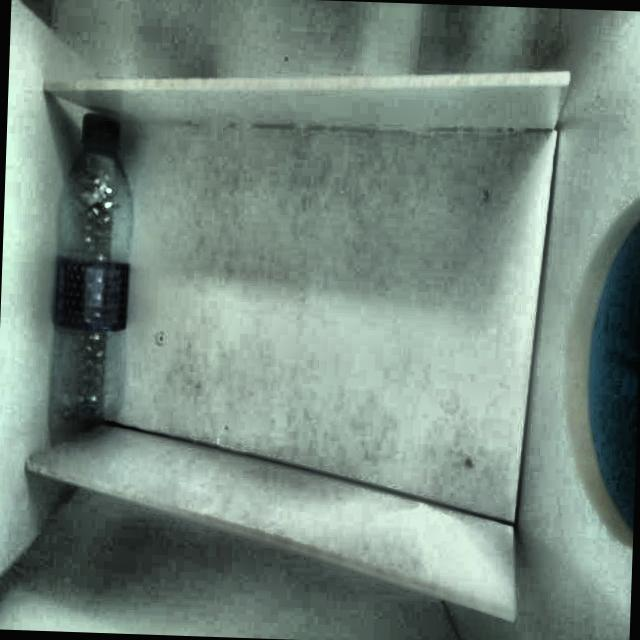plastic bottle: (50, 113, 133, 447)
